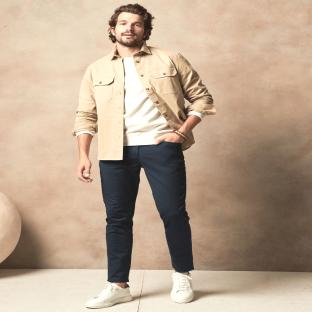Human: (72, 4, 216, 308)
